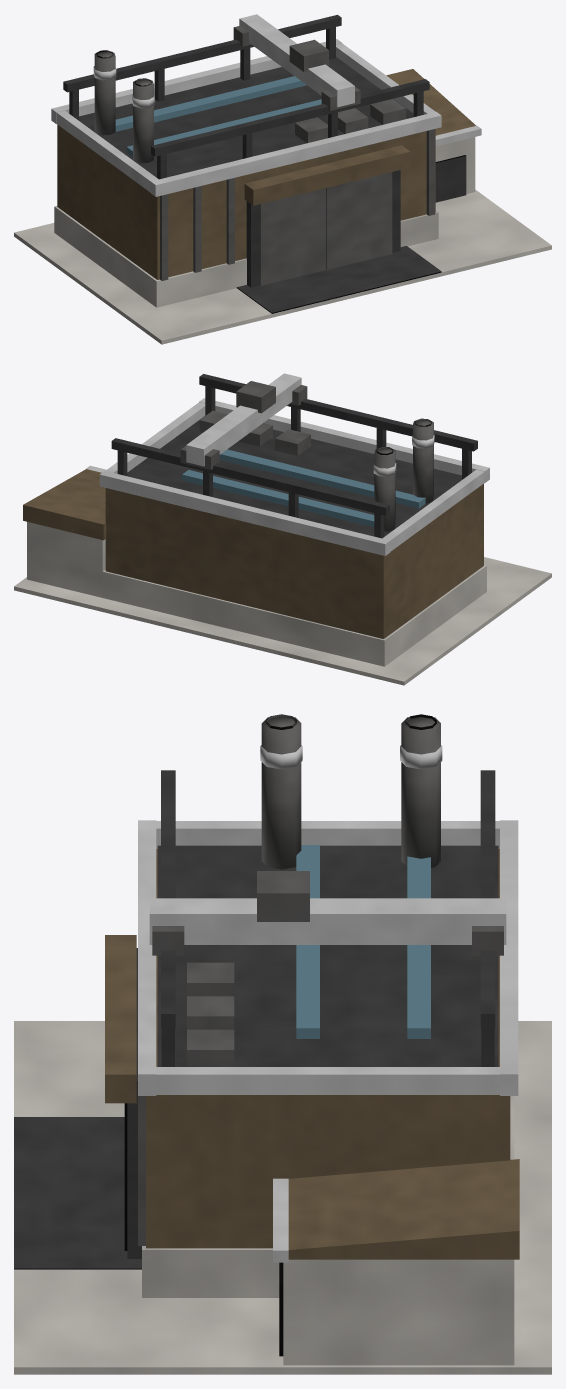
File: factory.glb
The picture shows the model from 3 angles, top to bottom: view 1: azimuth 30°, elevation 25°; view 2: azimuth 150°, elevation 25°; view 3: azimuth 270°, elevation 25°; orthographic projection. The views are drawn at different scales.
Visible parts, largest first — view 1: building; view 2: building; view 3: building.
Part boxes in pixels (x1,y1,x2,y2): building: (14,14,551,344); building: (14,373,551,685); building: (14,714,551,1374).
Bounding box in the file's own units: 31.06 × 14.85 × 20.34.
2 materials, 2 textured.
